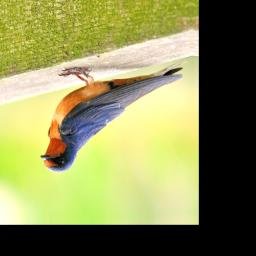Swallow: (33, 54, 188, 178)
